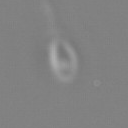normal: (35, 1, 67, 40)
